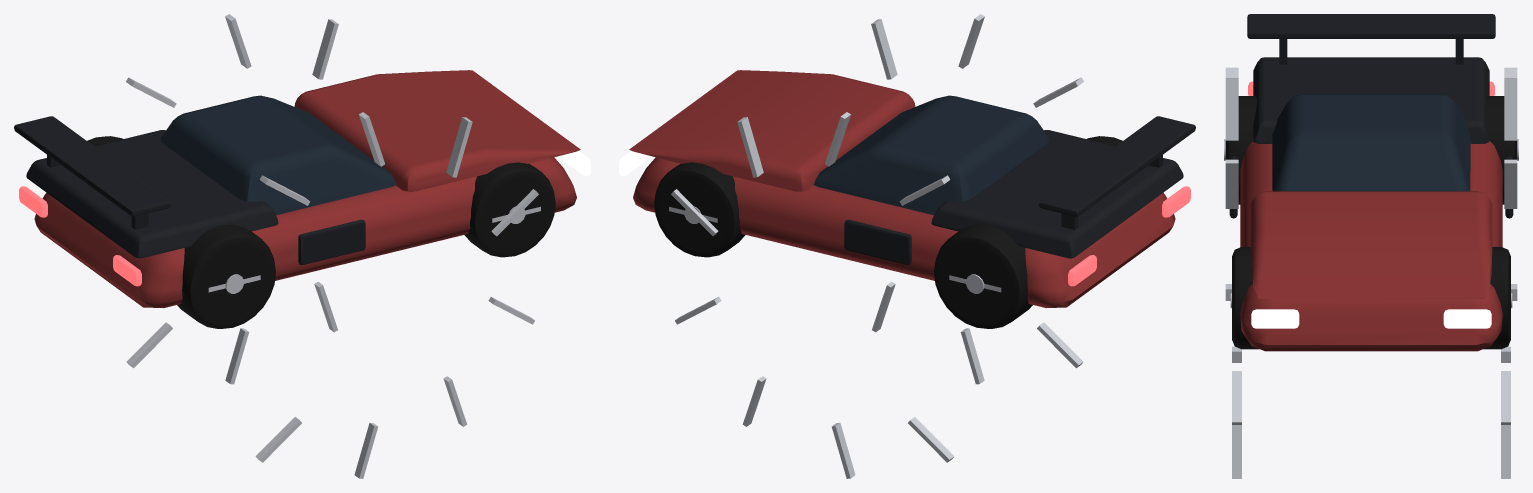
File: supercar.glb
3 renders of one model, left to right at view 1: azimuth 30°, elevation 25°; view 2: azimuth 150°, elevation 25°; view 3: azimuth 270°, elevation 25°, orthographic. The views are drawn at different scales.
Parts seen in each view (by area): view 1: part-paint, part-trim, part-glass, wheel--11--1-tyre, wheel-+11--1-tyre, wheel--11--1-hub, wheel-+11--1-hub, wheel--11-1-hub, wheel-+11-1-hub, part-taillight; view 2: part-paint, part-trim, part-glass, wheel--11-1-tyre, wheel-+11-1-tyre, wheel--11-1-hub, wheel-+11-1-hub, wheel--11--1-hub, wheel-+11--1-hub, part-taillight; view 3: part-paint, part-glass, part-trim, wheel--11-1-hub, wheel--11--1-hub, wheel-+11-1-tyre, wheel-+11--1-tyre, wheel--11-1-tyre, wheel--11--1-tyre, wheel-+11-1-hub, wheel-+11--1-hub, headlight-1 (+1 smaller).
Part boxes in pixels (x1,y1,x2,y2): part-paint: (34,70,580,308); part-trim: (14,116,365,264); part-glass: (160,95,395,215); wheel--11--1-tyre: (177,224,275,328); wheel-+11--1-tyre: (464,162,555,257); wheel--11--1-hub: (208,112,538,293); wheel-+11--1-hub: (255,206,540,478); wheel--11-1-hub: (126,14,338,107); wheel-+11-1-hub: (126,281,337,384); part-taillight: (19,186,141,286); part-paint: (629,70,1175,308); part-trim: (844,116,1195,264); part-glass: (814,95,1049,215); wheel--11-1-tyre: (934,224,1032,328); wheel-+11-1-tyre: (654,162,745,257); wheel--11-1-hub: (671,112,1001,293); wheel-+11-1-hub: (669,206,954,478); wheel--11--1-hub: (871,14,1083,107); wheel-+11--1-hub: (872,281,1083,384); part-taillight: (1068,186,1190,286); part-paint: (1240,141,1502,351); part-glass: (1272,94,1470,191); part-trim: (1229,14,1513,218); wheel--11-1-hub: (1504,67,1518,300); wheel--11--1-hub: (1224,67,1238,300); wheel-+11-1-tyre: (1483,247,1510,349); wheel-+11--1-tyre: (1232,247,1259,349); wheel--11-1-tyre: (1486,96,1517,204); wheel--11--1-tyre: (1225,96,1256,204); wheel-+11-1-hub: (1501,293,1512,478); wheel-+11--1-hub: (1230,293,1241,478); headlight-1: (1443,309,1491,328).
Bounding box in the file's own units: 34.7 × 26.09 × 18.4.
